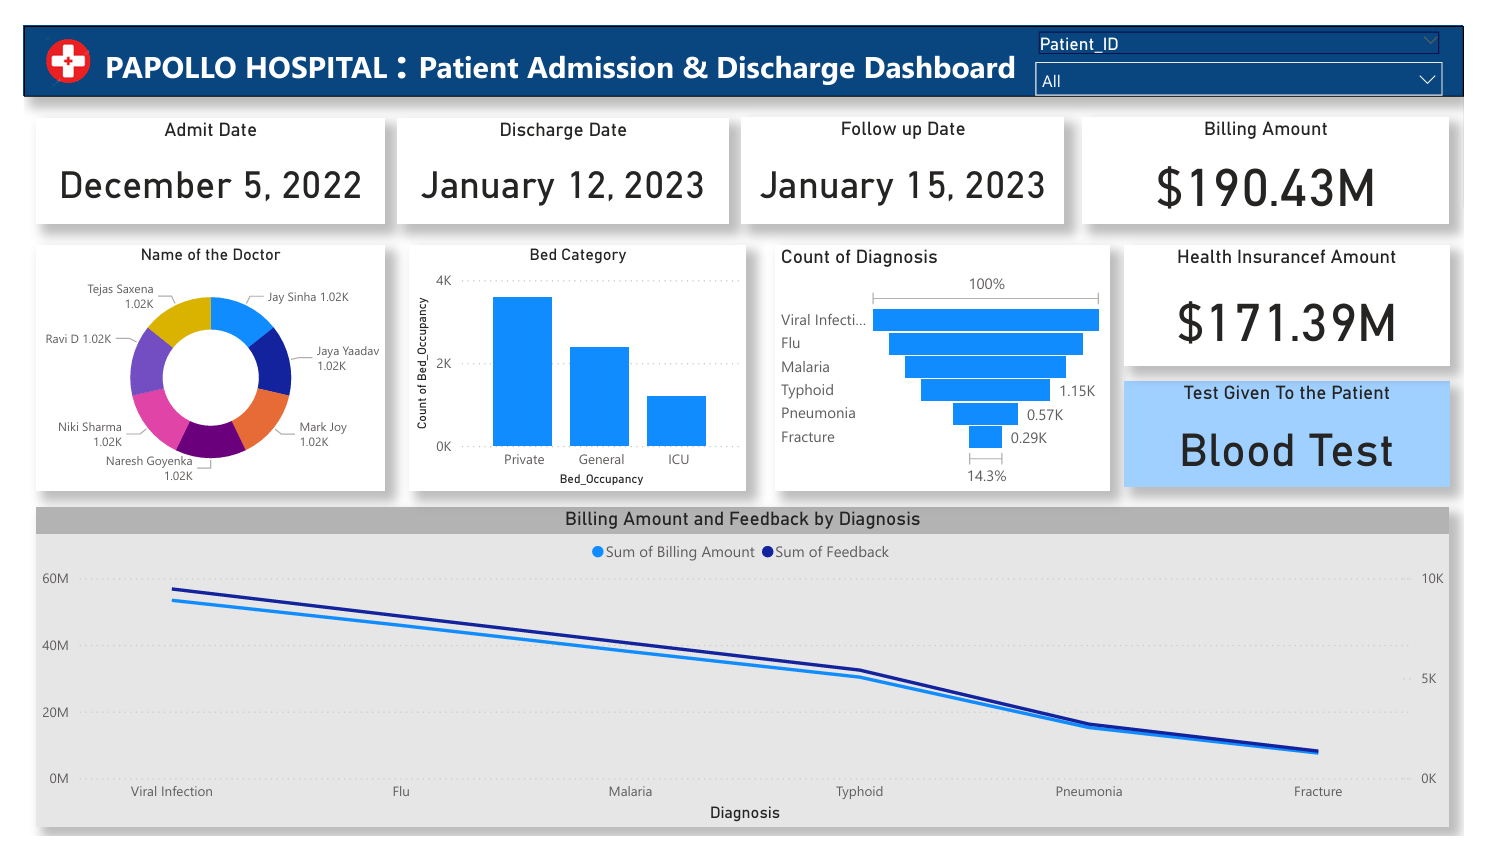

Layout of this report page (visuals, bound fields, positions):
{"tool":"powerbi","page":{"name":"Page 1","canvas":[1280,720],"ordinal":0},"visuals":[{"type":"textbox","box":[0,0,1280.3,63.1],"z":0},{"type":"image","box":[11,5.5,56.3,52.1],"z":1000},{"type":"slicer","fields":{"Values":["Sheet1 (2).Patient_ID"]},"box":[889.2,0,381.5,63.1],"z":2000},{"type":"card","title":"Admit Date","fields":{"Values":["Sheet1 (2).Admit_Date"]},"box":[11,82.3,310.1,93.3],"z":3000},{"type":"card","title":"Discharge Date","fields":{"Values":["Sheet1 (2).Discharge_Date"]},"box":[332.1,82.3,295,93.3],"z":4000},{"type":"card","title":"Follow up Date","fields":{"Values":["Sheet1 (2).Followup Date"]},"box":[638.1,81,286.8,94.7],"z":5000},{"type":"card","title":"Billing Amount","fields":{"Values":["Sheet1 (2).Billing Amount"]},"box":[941.3,81,325.2,94.7],"z":6000},{"type":"donutChart","title":"Name of the Doctor","fields":{"Category":["Sheet1 (2).Doctor"],"Y":["Sheet1 (2).Doctor"]},"box":[11,194.9,310.1,218.2],"z":7000},{"type":"lineChart","title":"Billing Amount and Feedback by Diagnosis","fields":{"Y":["Sheet1 (2).Billing Amount"],"Y2":["Sheet1 (2).Feedback"],"Category":["Sheet1 (2).Diagnosis"]},"box":[11,428.1,1255.6,284],"z":8000},{"type":"columnChart","title":"Bed Category","fields":{"Category":["Sheet1 (2).Bed_Occupancy"],"Y":["Sheet1 (2).Bed_Occupancy"]},"box":[343.1,194.9,299.1,218.2],"z":9000},{"type":"funnel","title":"Count of Diagnosis","fields":{"Category":["Sheet1 (2).Diagnosis"],"Y":["Sheet1 (2).Diagnosis"]},"box":[668.3,194.9,296.4,218.2],"z":9001},{"type":"card","title":"Test Given To the Patient","fields":{"Values":["Sheet1 (2).Test"]},"box":[978.4,315.6,288.2,94.7],"z":9002},{"type":"card","title":"Health Insurancef Amount","fields":{"Values":["Sheet1 (2).Health Insurance Amount"]},"box":[978.4,194.9,288.2,107],"z":9003}]}

Visuals, with their boxes in screenshot pixels (x1, y1, x2, y2), scaled from the page's 1280x720 canvas onto the 1487x862 screenshot:
textbox: Rect(0, 0, 1486, 76)
image: Rect(13, 7, 78, 69)
slicer - Sheet1 (2).Patient_ID: Rect(1033, 0, 1476, 76)
"Admit Date" card: Rect(13, 99, 373, 210)
"Discharge Date" card: Rect(386, 99, 729, 210)
"Follow up Date" card: Rect(741, 97, 1074, 210)
"Billing Amount" card: Rect(1094, 97, 1471, 210)
"Name of the Doctor" donutChart: Rect(13, 233, 373, 495)
"Billing Amount and Feedback by Diagnosis" lineChart: Rect(13, 513, 1471, 853)
"Bed Category" columnChart: Rect(399, 233, 746, 495)
"Count of Diagnosis" funnel: Rect(776, 233, 1121, 495)
"Test Given To the Patient" card: Rect(1137, 378, 1471, 491)
"Health Insurancef Amount" card: Rect(1137, 233, 1471, 361)
